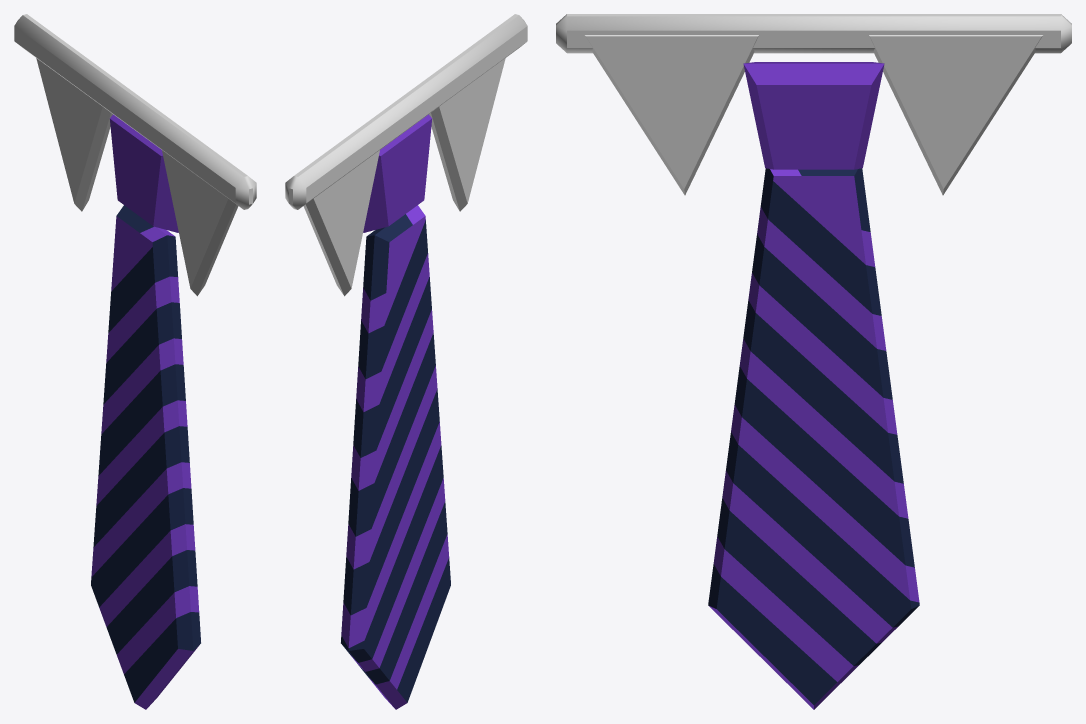
Rendered from detail_tie.glb.
3 renders of one model, left to right at view 1: azimuth 30°, elevation 25°; view 2: azimuth 150°, elevation 25°; view 3: azimuth 270°, elevation 25°, orthographic. The views are drawn at different scales.
Parts seen in each view (by area): view 1: detail_tie; view 2: detail_tie; view 3: detail_tie.
Boxes of the visible parts, x1=… form: detail_tie: x1=14, y1=14, x2=256, y2=709; detail_tie: x1=285, y1=14, x2=527, y2=709; detail_tie: x1=556, y1=14, x2=1071, y2=709.
Size of the model in its own units: 0.05 by 0.56 by 0.38.
